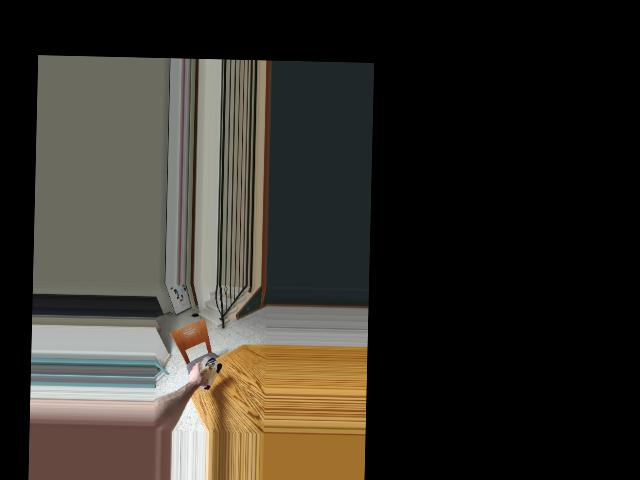cheese: (189, 356, 222, 392)
